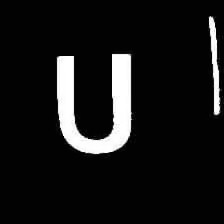LTR_U: (49, 42, 137, 161)
